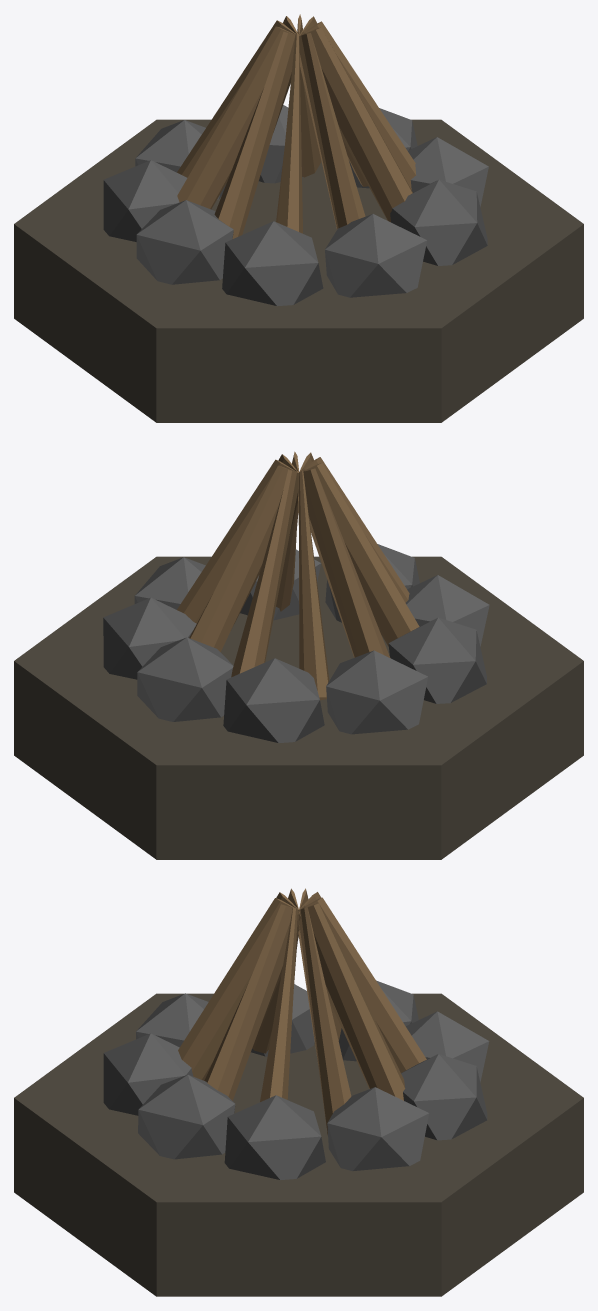
The model's file is settlement_node.glb.
3 views of the same model, one above another, from view 1: azimuth 30°, elevation 25°; view 2: azimuth 150°, elevation 25°; view 3: azimuth 270°, elevation 25° (orthographic).
Parts seen in each view (by area): view 1: mesh; view 2: mesh; view 3: mesh.
Boxes of the visible parts, <box> form: mesh: <box>14,14,583,422</box>; mesh: <box>14,451,583,859</box>; mesh: <box>14,888,583,1296</box>.
Size of the model in its own units: 1.73 by 1.14 by 2.
